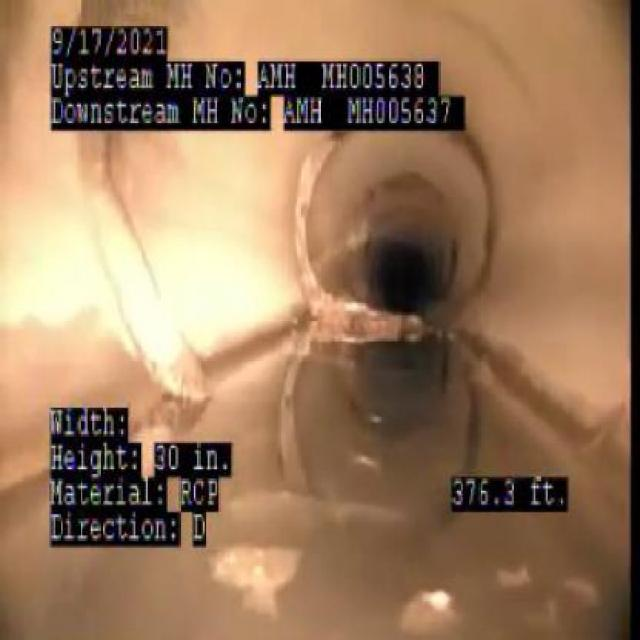Debris: (304, 277, 436, 363)
